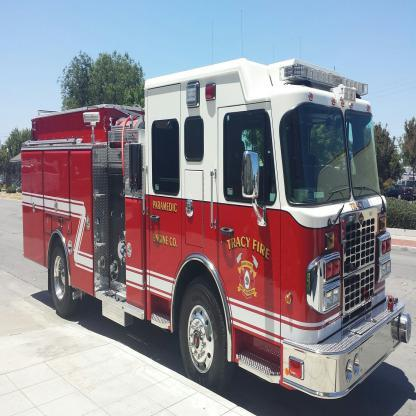fire-truck: (13, 50, 411, 416)
